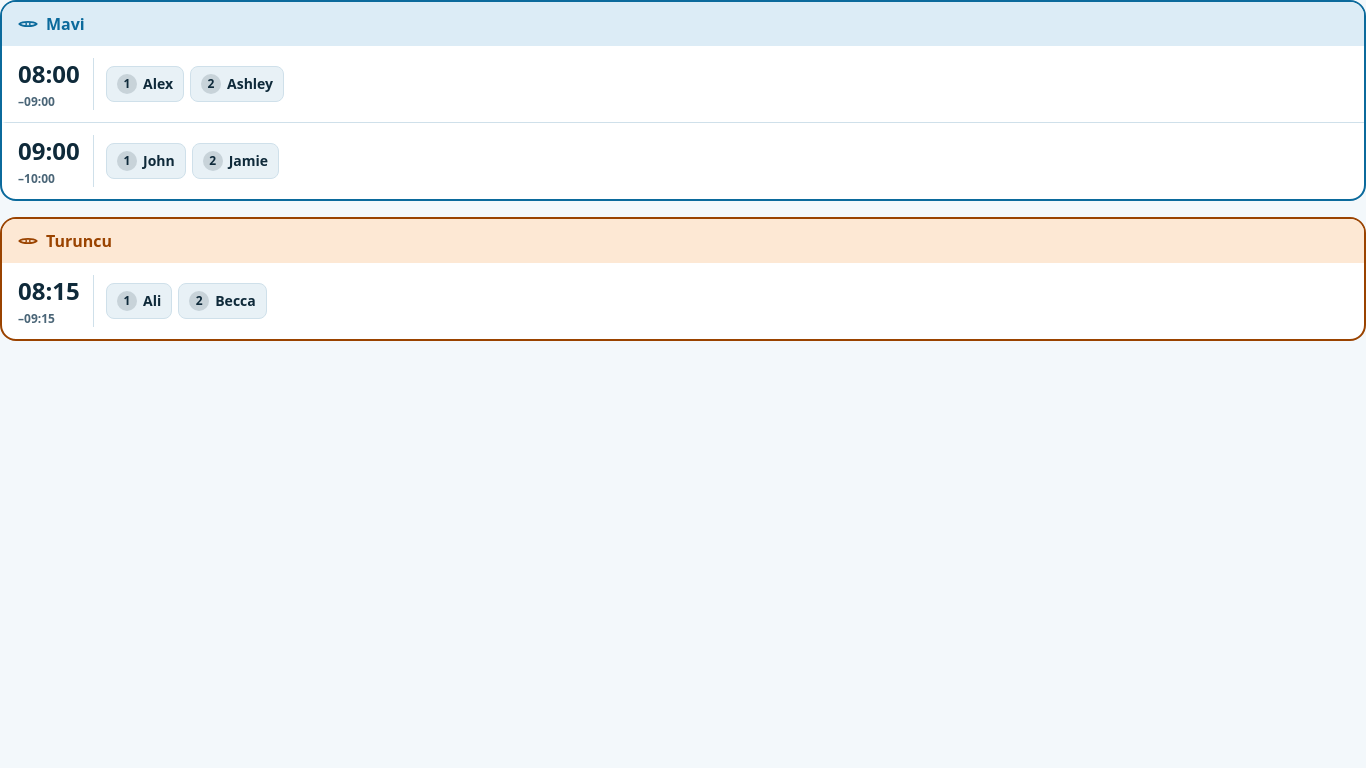
it: ProgramByBoat (the whole published program, grouped by boat) › says so when a member has no phone number saved
The width and height of the screenshot is (1366, 768).
Click the button "2 Ashley": (237, 84) left=190, top=66, right=284, bottom=102
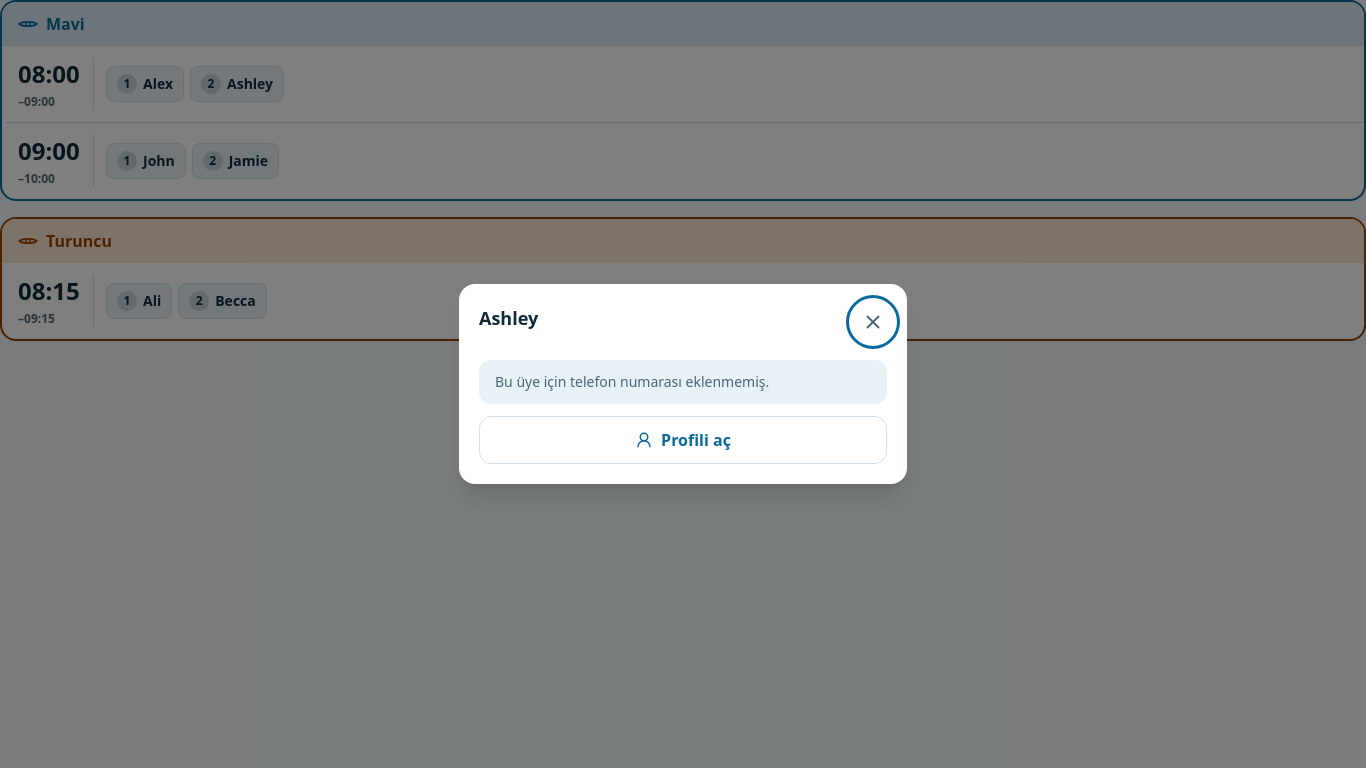
Now the text "Bu üye için telefon numarası eklenmemiş." is shown, box left=479, top=360, right=887, bottom=404
